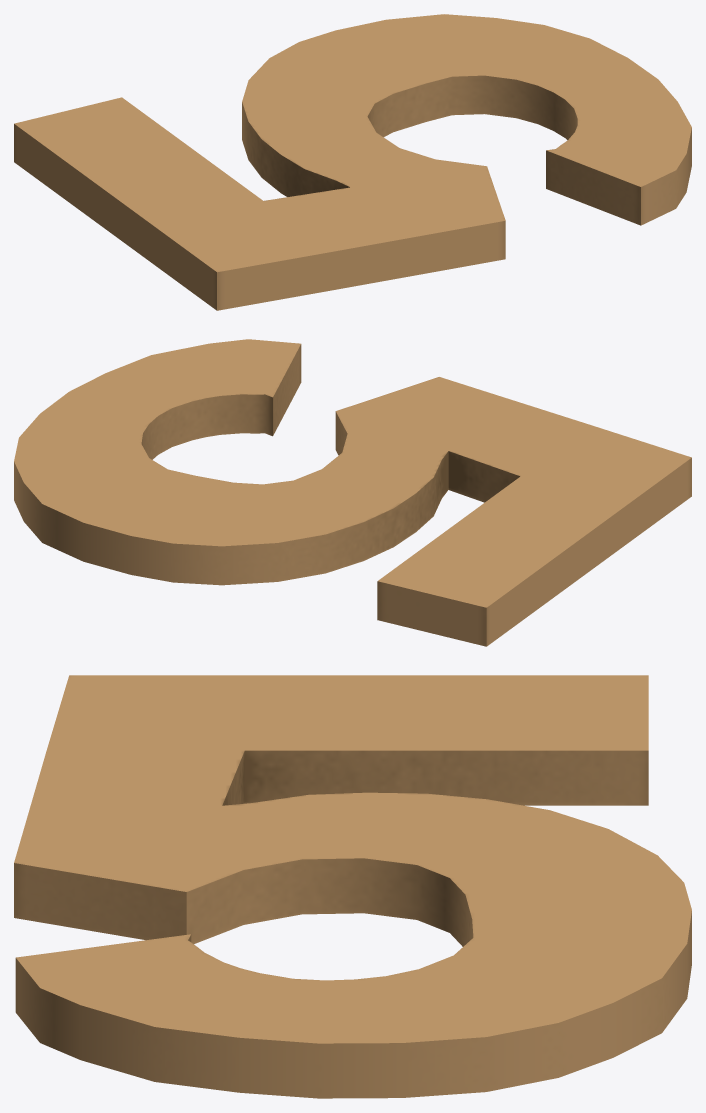
Rendered from 5_Bronze.glb.
3 views of the same model, one above another, from view 1: azimuth 30°, elevation 25°; view 2: azimuth 150°, elevation 25°; view 3: azimuth 270°, elevation 25° (orthographic). The views are drawn at different scales.
Parts seen in each view (by area): view 1: 5*; view 2: 5*; view 3: 5*.
Part boxes in pixels (left/top/right/bottom): 5*: left=14, top=14, right=691, bottom=310; 5*: left=14, top=339, right=691, bottom=646; 5*: left=14, top=675, right=691, bottom=1098.
Size of the model in its own units: 0.5498 by 0.0383 by 0.4279.
Materials: 1 (1 with a texture image).
